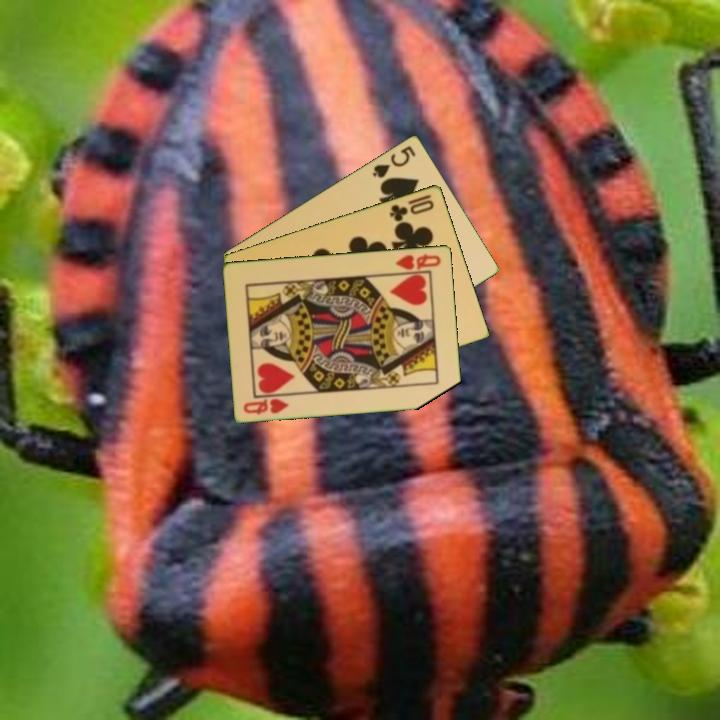10c: (386, 190, 437, 224)
5s: (369, 142, 419, 180)
Qh: (392, 250, 444, 272), (240, 395, 291, 417)
